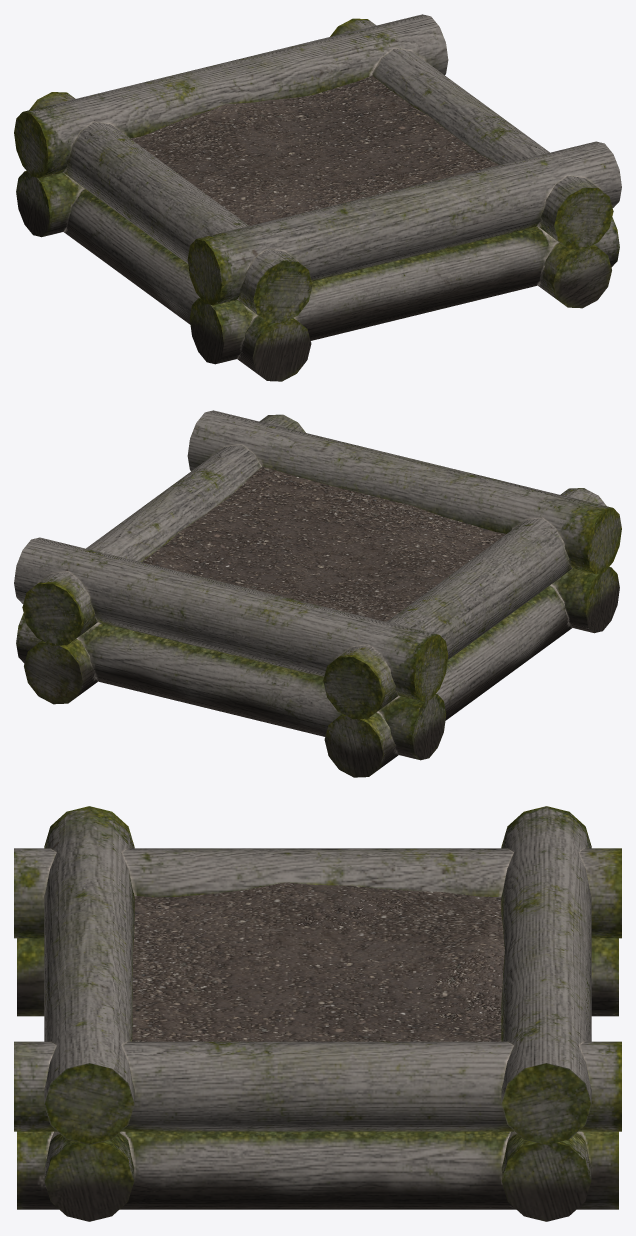
The model's file is SM_Wooden.fbx.
3 views of the same model, one above another, from view 1: azimuth 30°, elevation 25°; view 2: azimuth 150°, elevation 25°; view 3: azimuth 270°, elevation 25° (orthographic). The views are drawn at different scales.
Visible parts, largest first — view 1: SM_Wooden; view 2: SM_Wooden; view 3: SM_Wooden.
Part boxes in pixels (x1,y1,x2,y2): SM_Wooden: (14,14,621,381); SM_Wooden: (14,410,621,777); SM_Wooden: (14,806,621,1221).
Size of the model in its own units: 121 by 121 by 38.26.
Materials: 1 (1 with a texture image).
